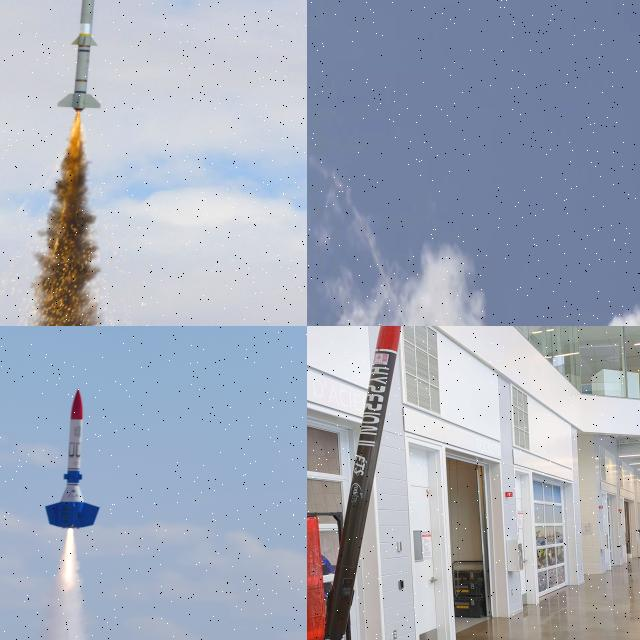Rocket: (323, 326, 401, 640), (45, 388, 101, 530), (57, 0, 102, 111)
